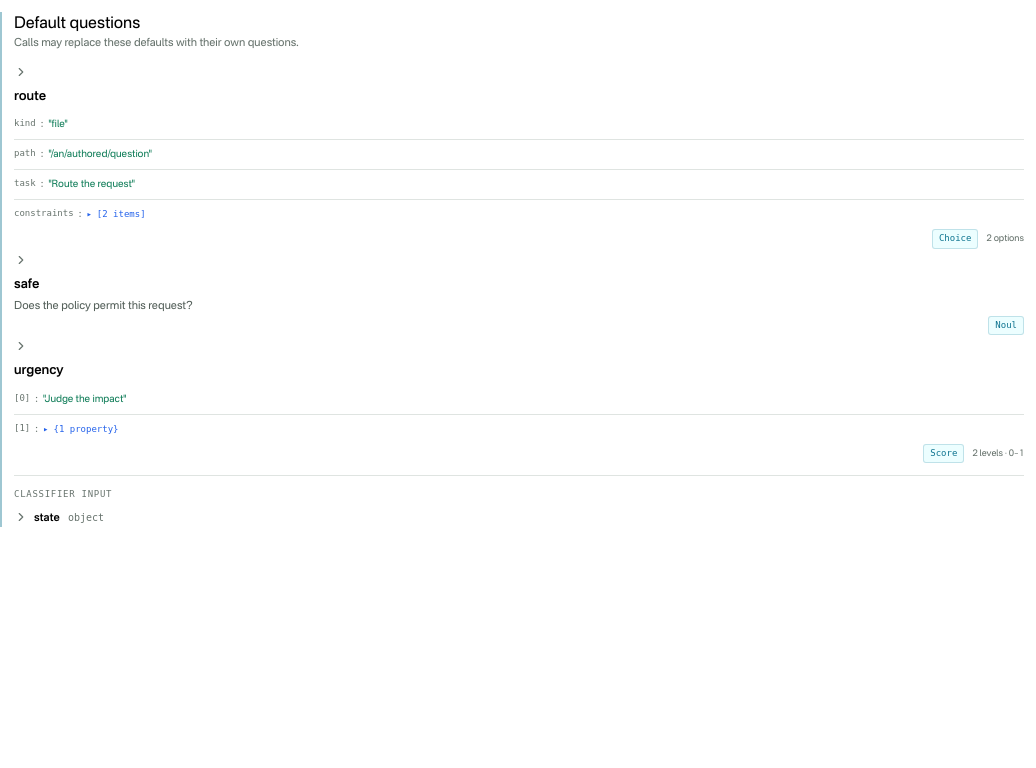
Scenario: shows unresolved and external schema references without following them
Click the button named "Expand state schema".
click(21, 517)  # box [12, 508, 30, 526]
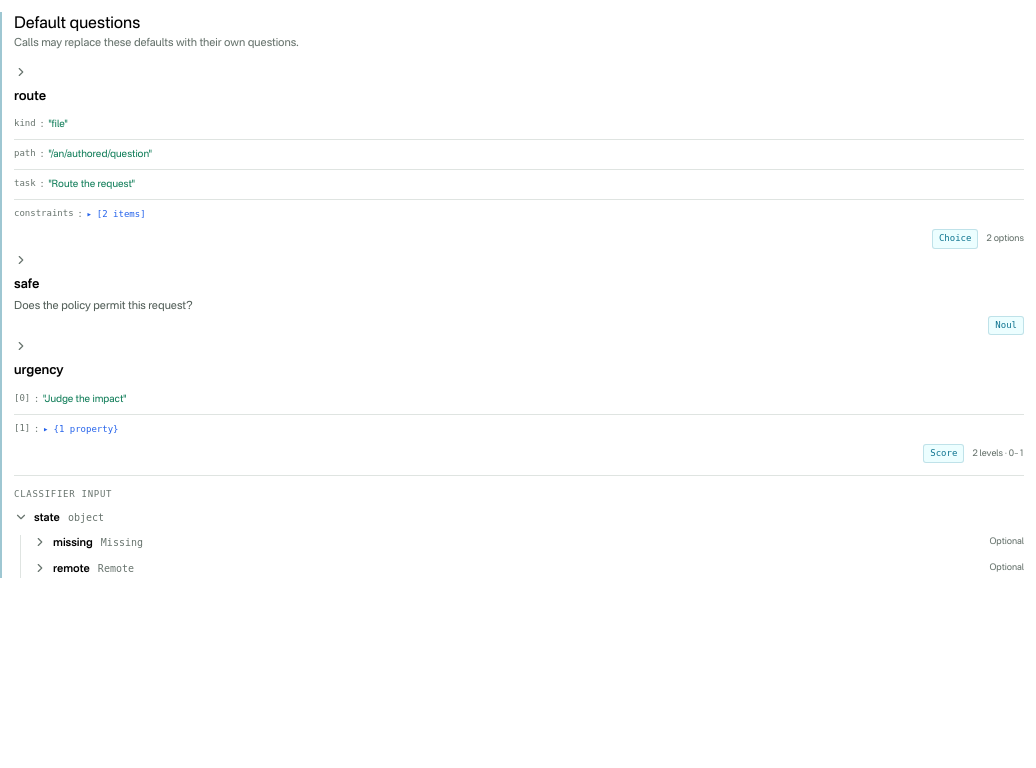
Click the button named "Expand missing schema".
click(40, 542)  # box [31, 533, 49, 551]
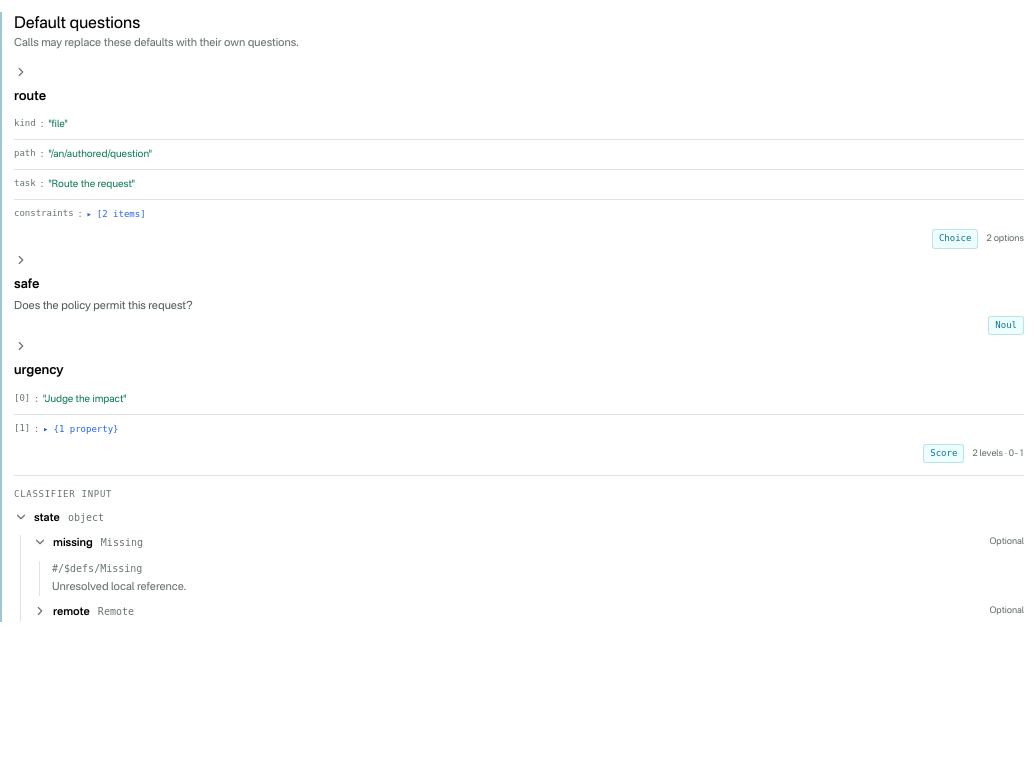
Click the button named "Expand remote schema".
click(40, 611)  # box [31, 602, 49, 620]
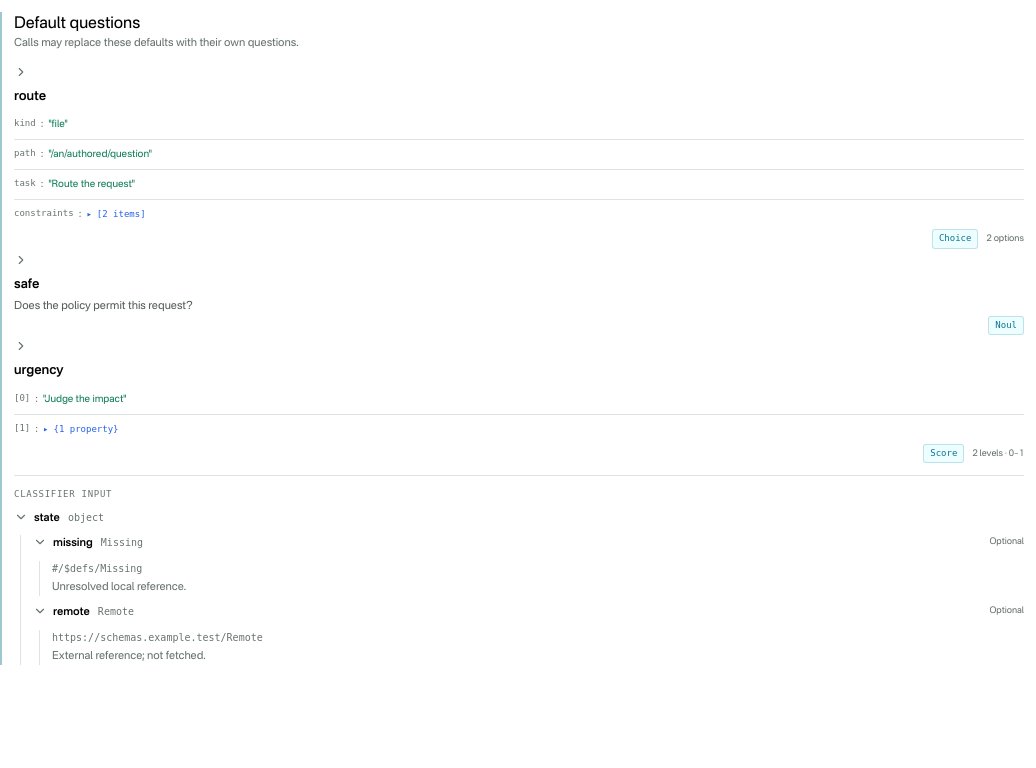
expect the text "Unresolved local reference." is shown: met, box [52, 582, 186, 593]
expect the text "External reference; not fetched." is shown: met, box [52, 651, 206, 662]
